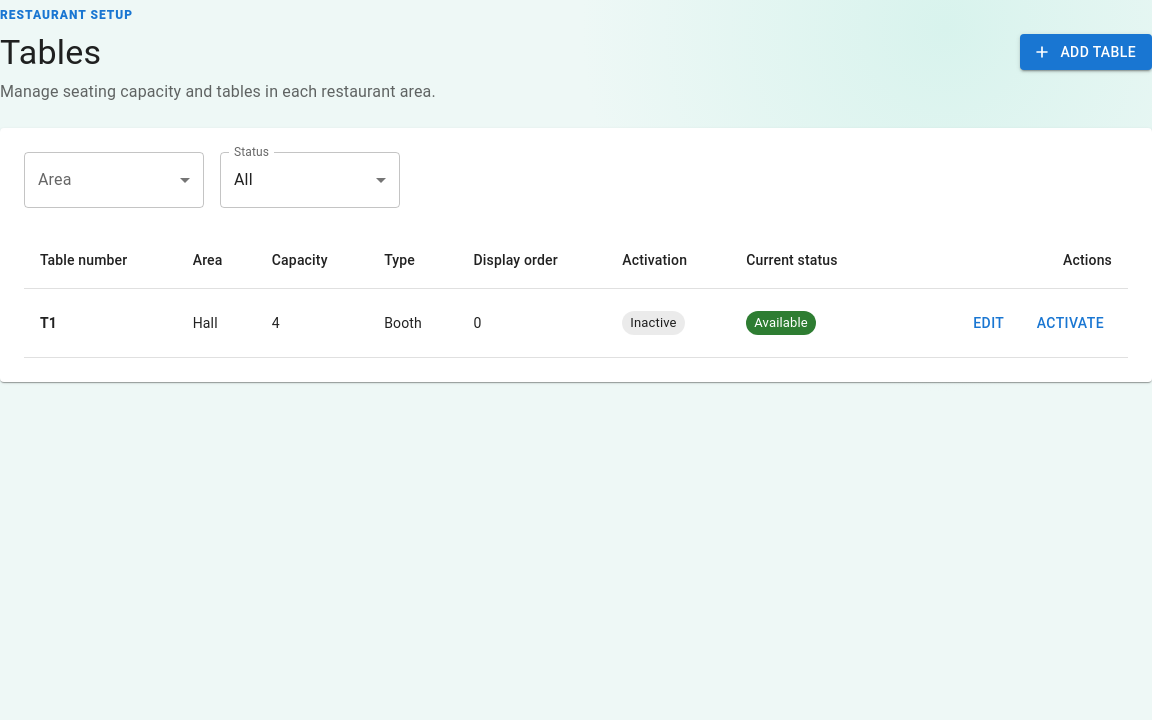
it: confirms activation of an inactive table
Click the button with aria-label "Activate T1".
click(1070, 323)  # box left=1029, top=305, right=1112, bottom=341
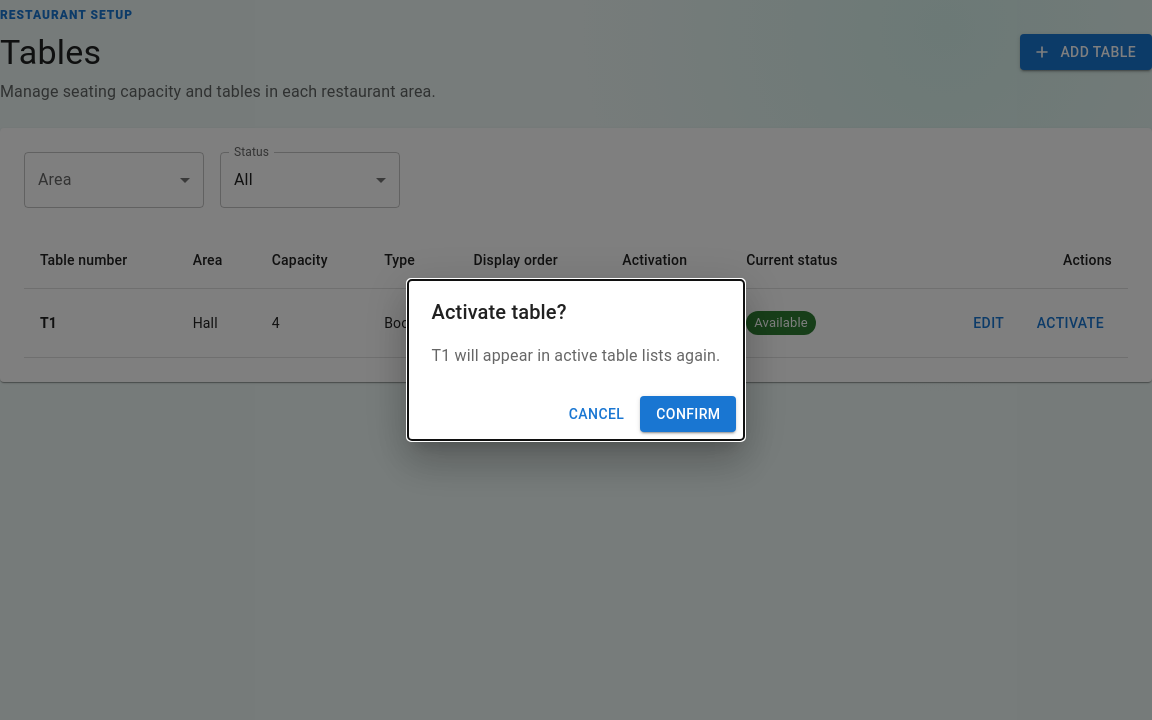
Click the button "Confirm".
click(688, 414)  # box left=640, top=396, right=736, bottom=432
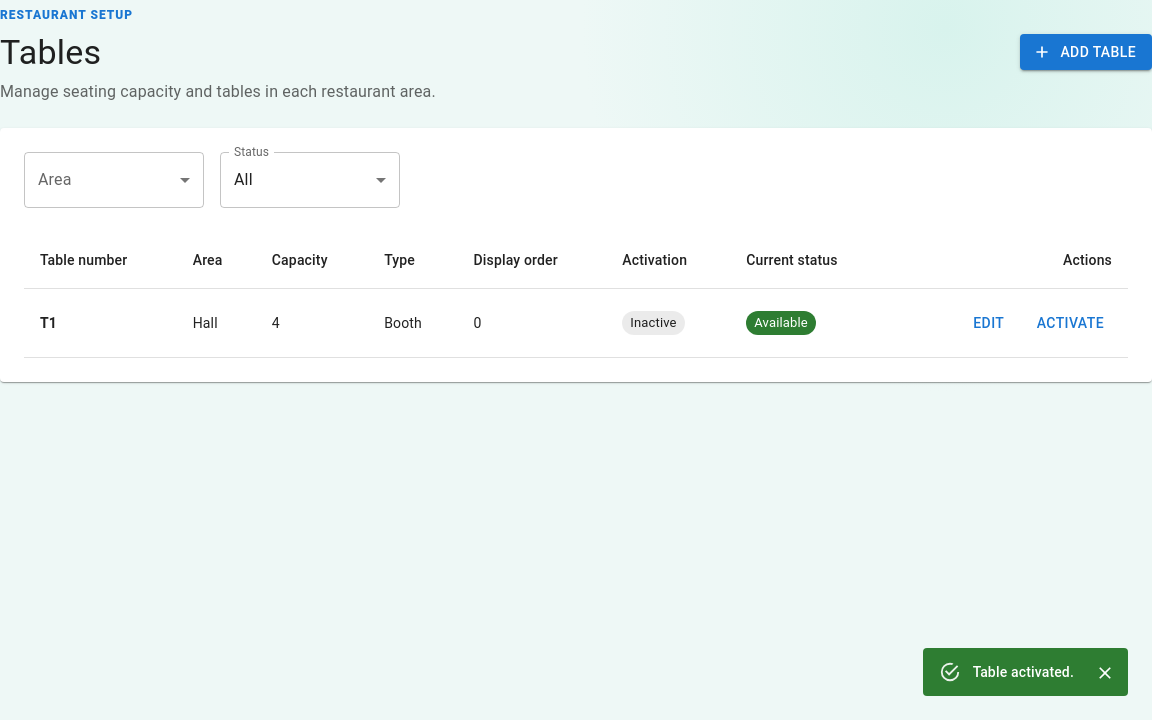
Expected: the dialog is gone
